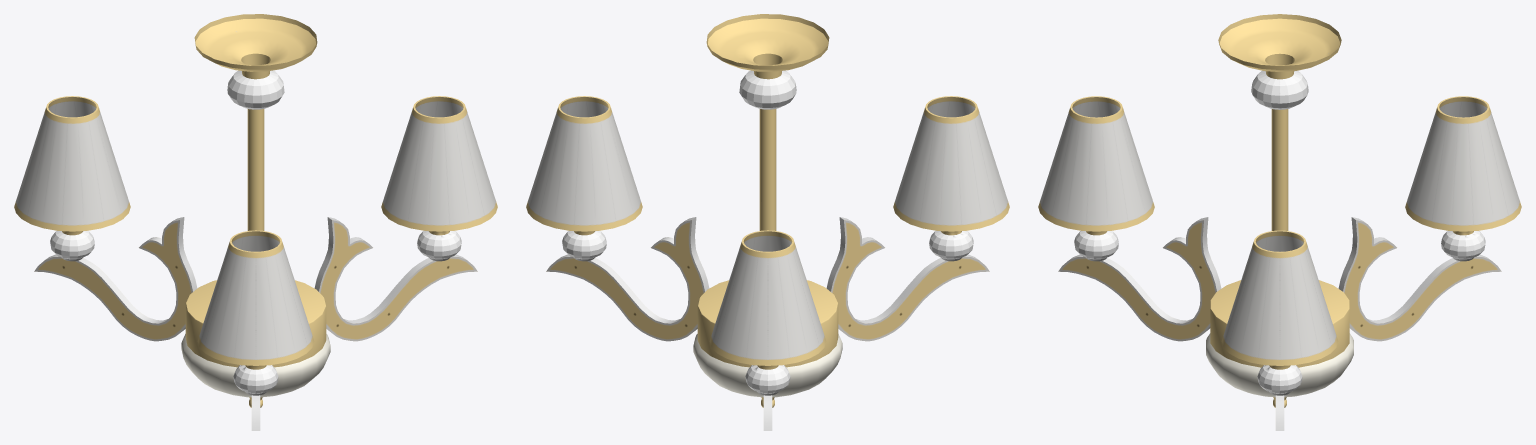
File: LightCeilingRetro03_2.FBX
The picture shows the model from 3 angles, left to right: view 1: azimuth 30°, elevation 25°; view 2: azimuth 150°, elevation 25°; view 3: azimuth 270°, elevation 25°; orthographic projection.
Parts seen in each view (by area): view 1: LightCeilingRetro03_2; view 2: LightCeilingRetro03_2; view 3: LightCeilingRetro03_2.
Boxes of the visible parts, x1=… form: LightCeilingRetro03_2: x1=14, y1=14, x2=497, y2=430; LightCeilingRetro03_2: x1=526, y1=14, x2=1009, y2=430; LightCeilingRetro03_2: x1=1038, y1=14, x2=1521, y2=430.
Bounding box in the file's own units: 1285 × 1202 × 1430.
